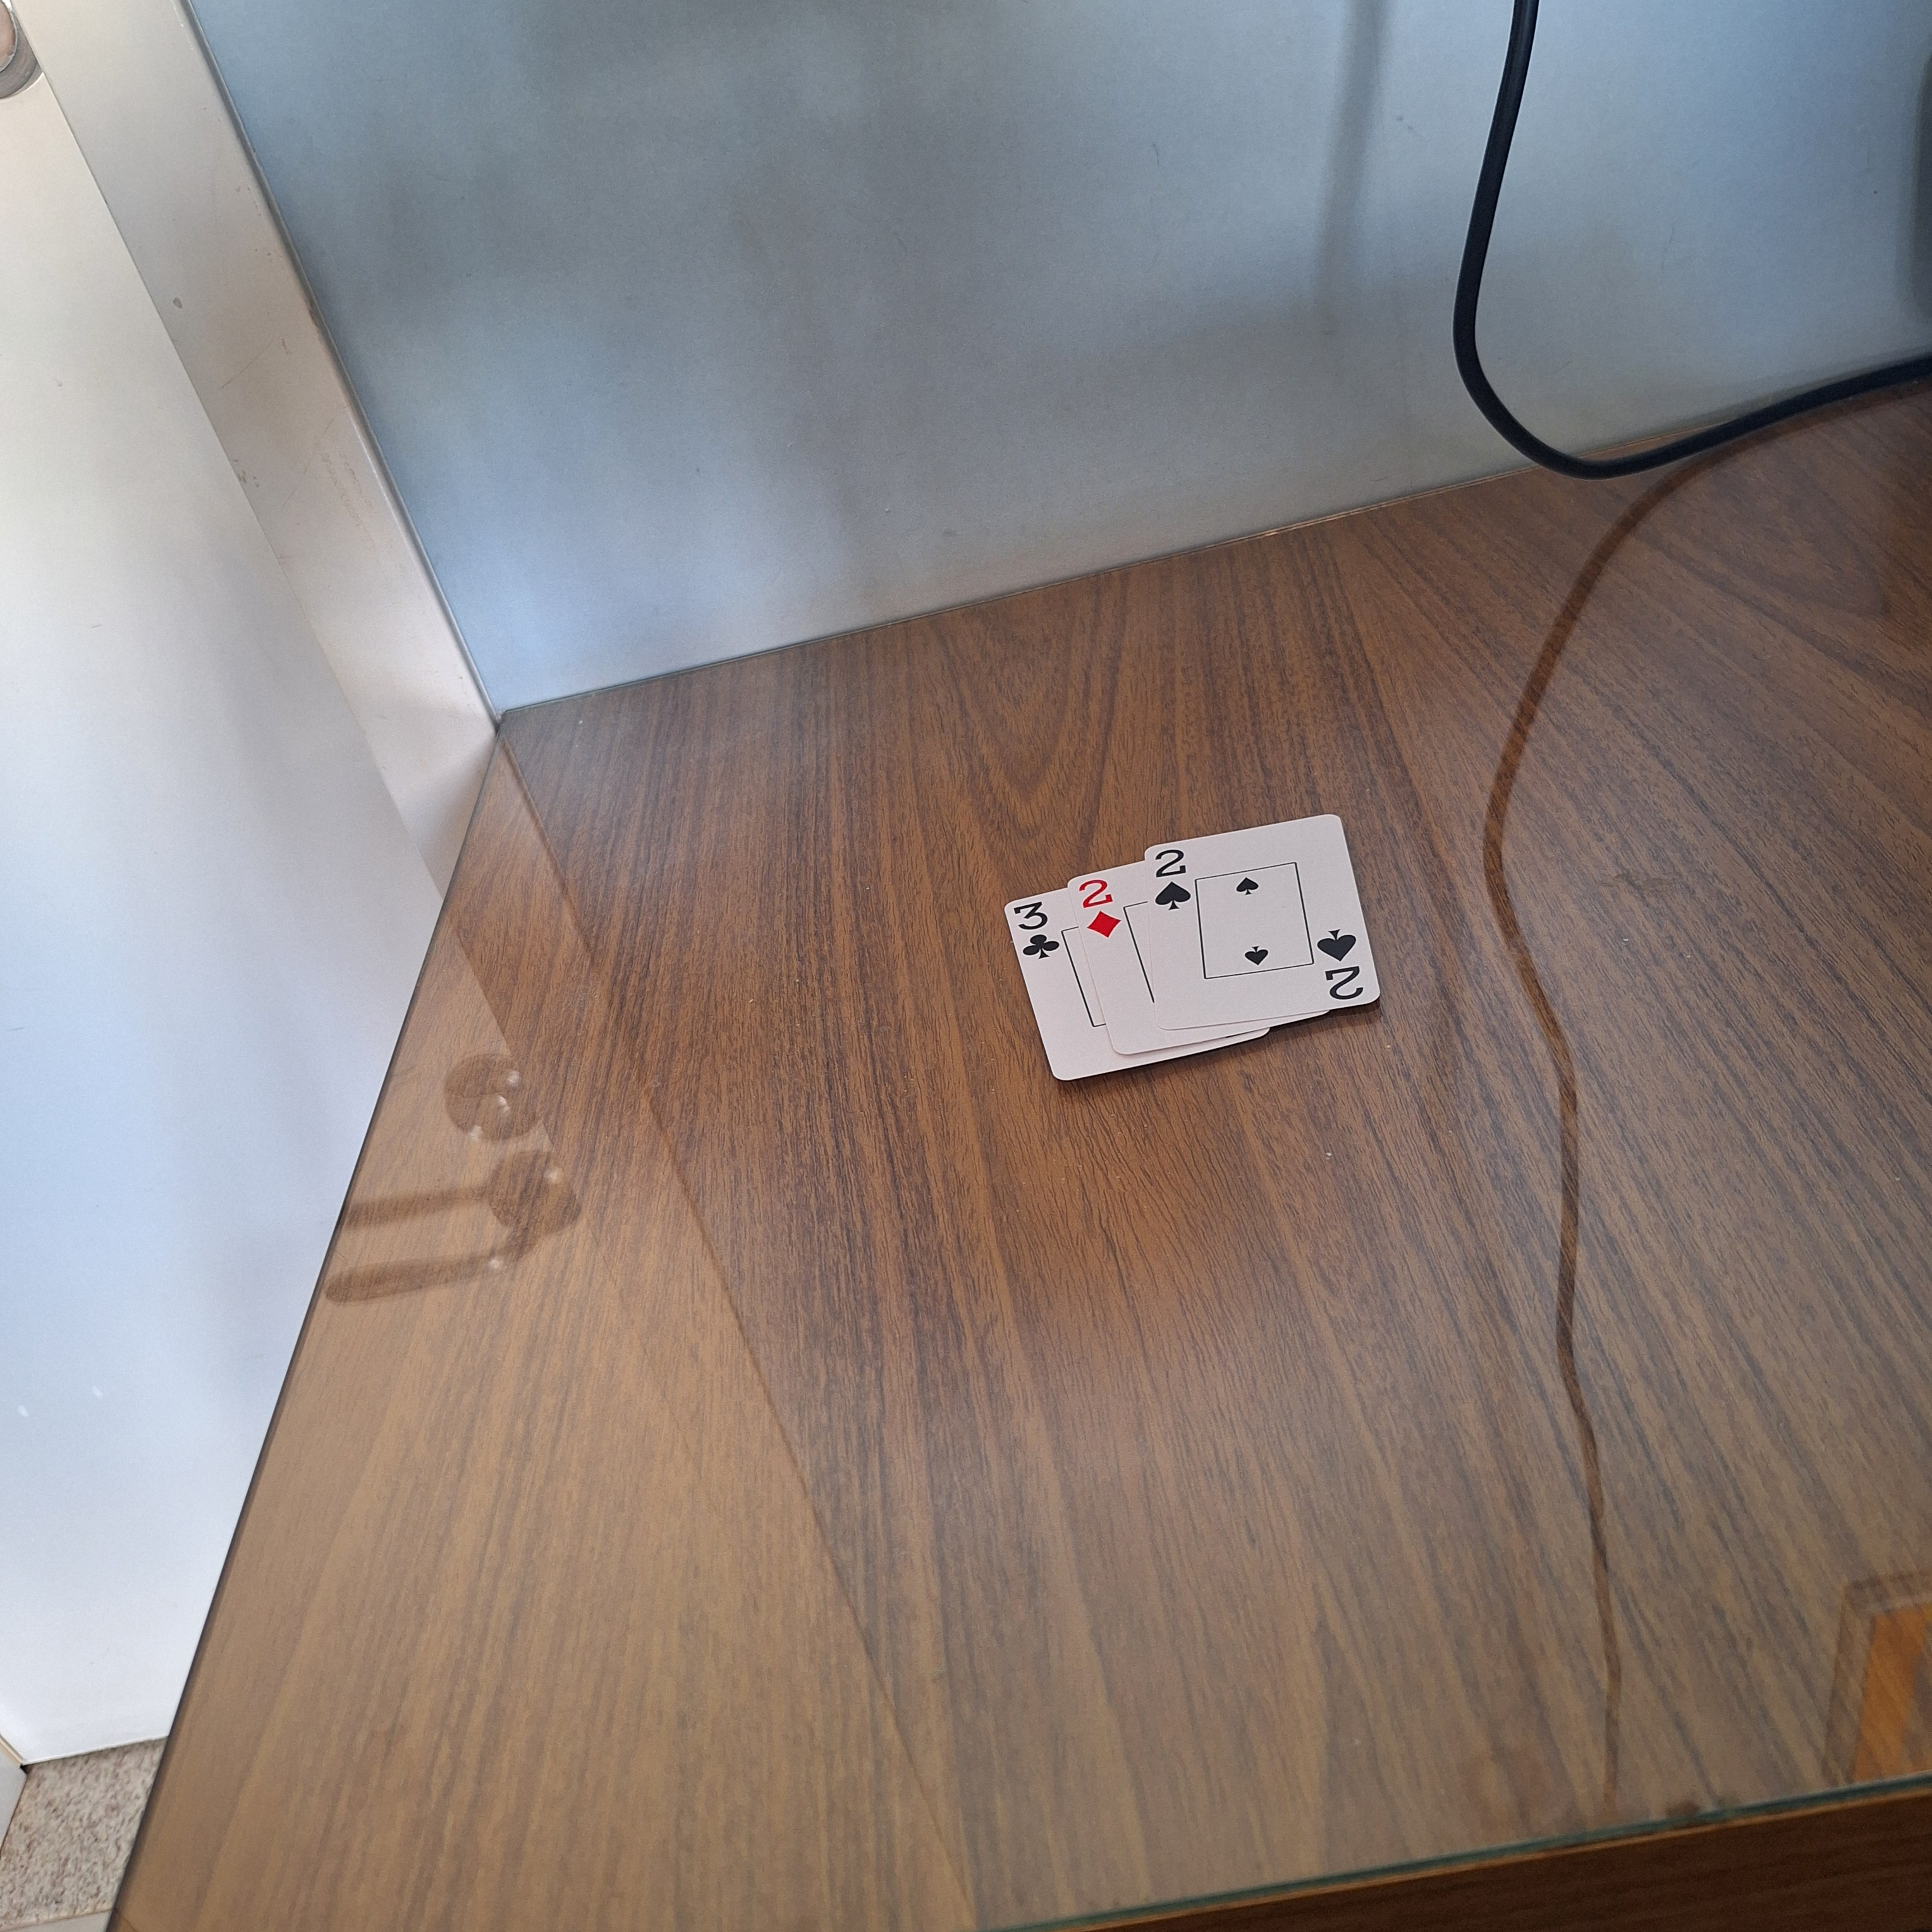2E: (1306, 922, 1371, 1005), (1152, 844, 1196, 920)
2O: (1074, 876, 1129, 943)
3E: (1008, 895, 1065, 966)
